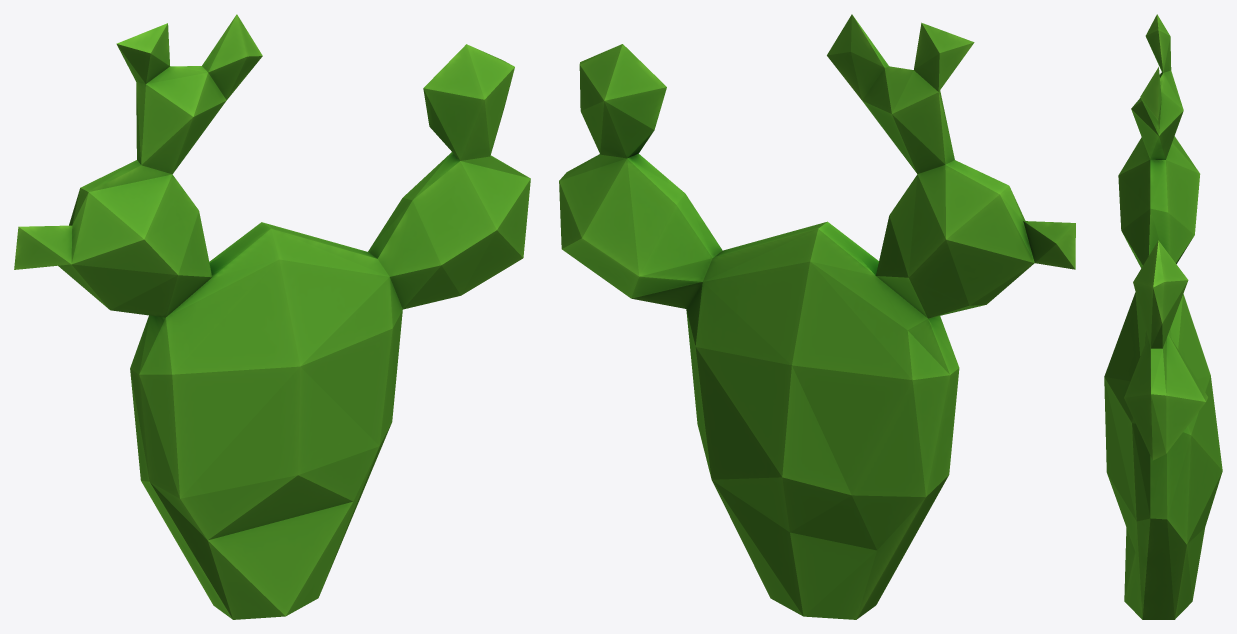
Rendered from Cactus_2.fbx.
3 renders of one model, left to right at view 1: azimuth 30°, elevation 25°; view 2: azimuth 150°, elevation 25°; view 3: azimuth 270°, elevation 25°, orthographic. The views are drawn at different scales.
Visible parts, largest first — view 1: Cactus_2; view 2: Cactus_2; view 3: Cactus_2.
Boxes of the visible parts, bbox=[...] form: Cactus_2: bbox=[14, 14, 530, 619]; Cactus_2: bbox=[559, 14, 1075, 619]; Cactus_2: bbox=[1104, 14, 1222, 619].
Size of the model in its own units: 45.78 by 51.48 by 10.44.
